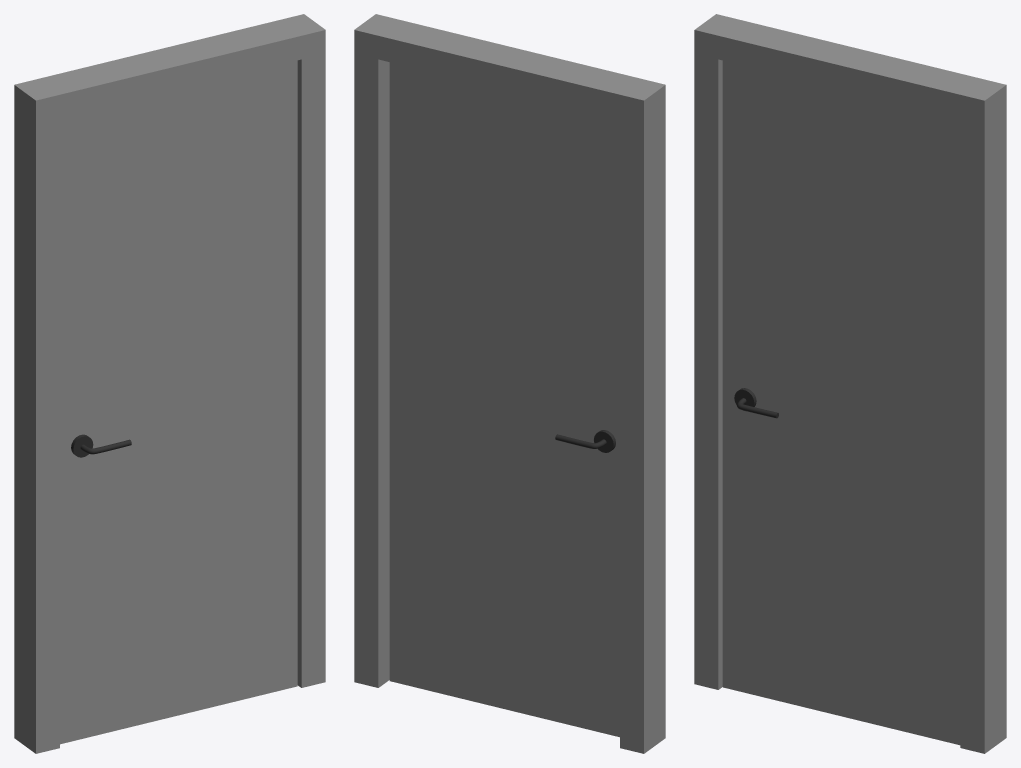
The model's file is Door.FBX.
3 renders of one model, left to right at view 1: azimuth 30°, elevation 25°; view 2: azimuth 150°, elevation 25°; view 3: azimuth 330°, elevation 25°, orthographic.
Visible parts, largest first — view 1: Door, door frame; view 2: Door, door frame; view 3: Door, door frame.
Boxes of the visible parts, left/top/right/bottom form: Door: left=60, top=60, right=297, bottom=744; door frame: left=14, top=14, right=325, bottom=753; Door: left=389, top=62, right=619, bottom=737; door frame: left=354, top=14, right=665, bottom=753; Door: left=722, top=60, right=960, bottom=745; door frame: left=694, top=14, right=1006, bottom=753.
Size of the model in its own units: 117 by 252 by 20.4.
2 materials, 1 textured.
